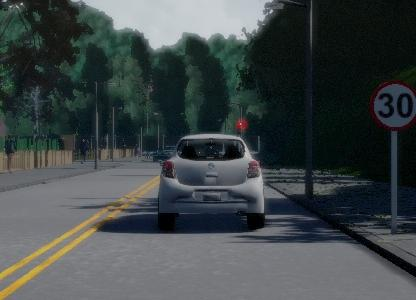Speed_30: (369, 77, 416, 132)
